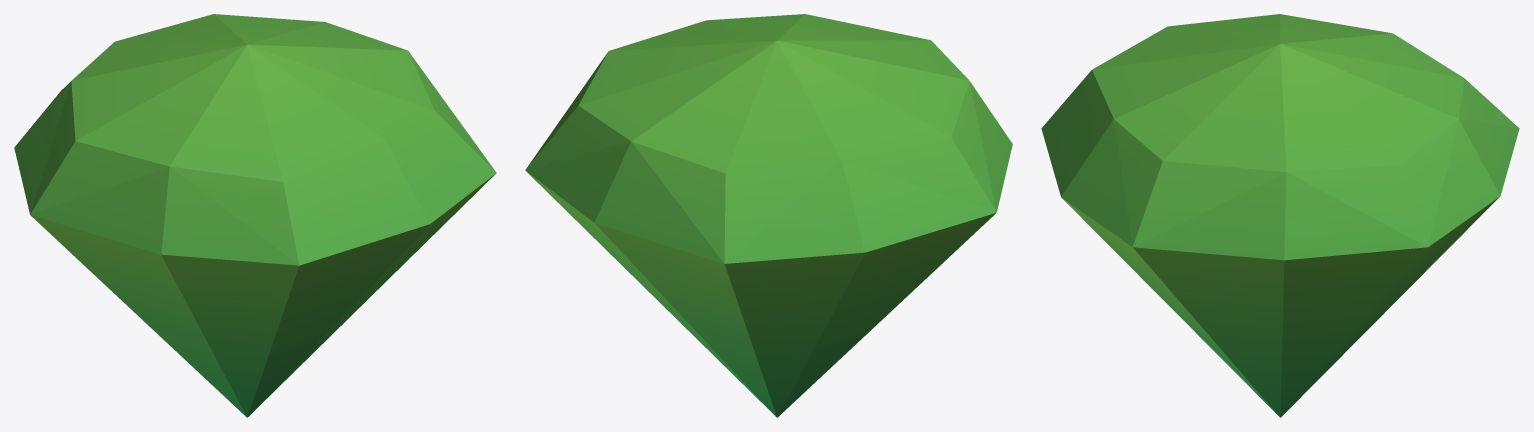
The model's file is GreenGem.glb.
The picture shows the model from 3 angles, left to right: view 1: azimuth 30°, elevation 25°; view 2: azimuth 150°, elevation 25°; view 3: azimuth 270°, elevation 25°; orthographic projection.
Visible parts, largest first — view 1: GemRed; view 2: GemRed; view 3: GemRed.
Part boxes in pixels (left/top/right/bottom): GemRed: left=14, top=14, right=496, bottom=417; GemRed: left=525, top=14, right=1012, bottom=417; GemRed: left=1041, top=14, right=1519, bottom=417.
Bounding box in the file's own units: 1.04 × 0.8836 × 1.02.
Materials: 1 (1 with a texture image).
